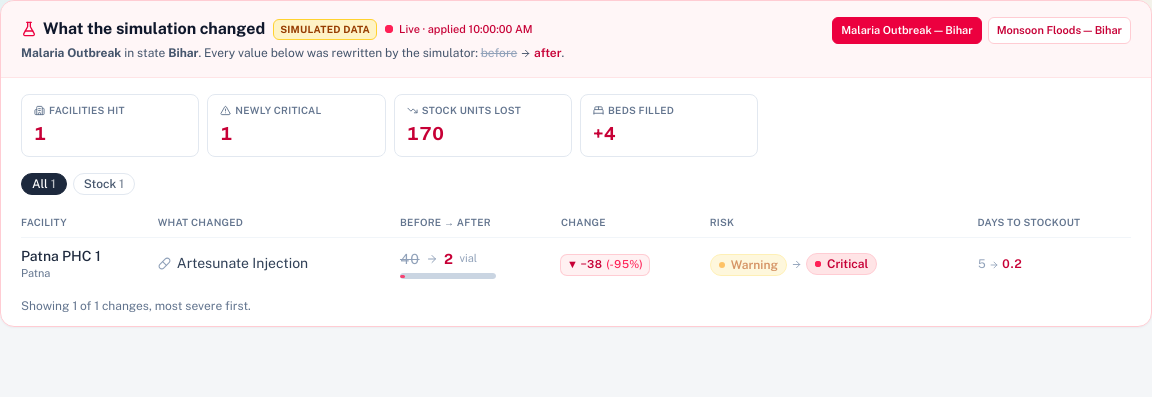
Test case: CrisisImpactPanel › switches between stacked crises
Expected: the text "Artesunate Injection" is shown, [158,253,308,273]
Click the tab "Monsoon Floods — Bihar": (1059, 30) [988,17,1131,44]
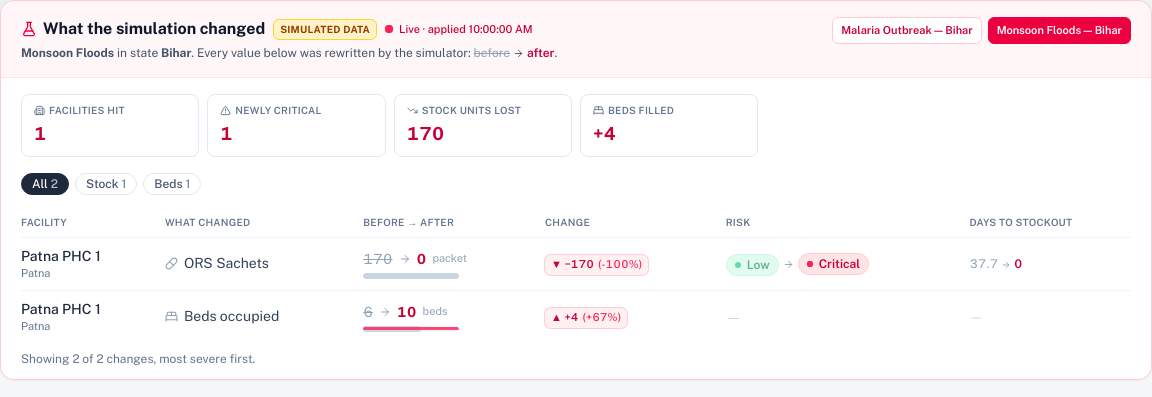
Expected: the text "ORS Sachets" is shown, [165,253,269,273]
